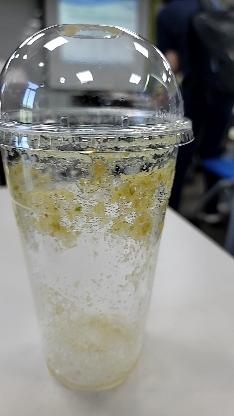Plastic Cup: (0, 23, 192, 395), (0, 22, 196, 158)
